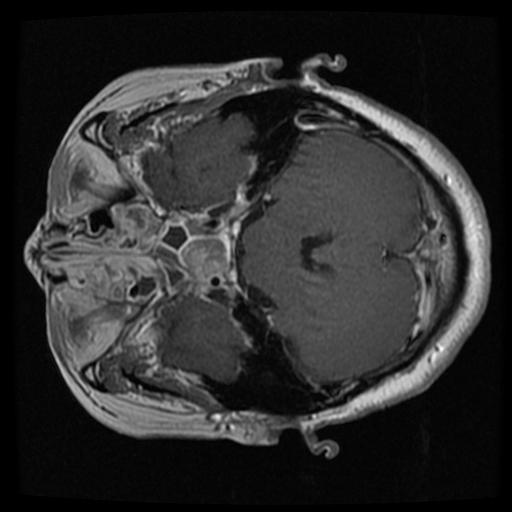pituitary tumour: (179, 235, 232, 280)
